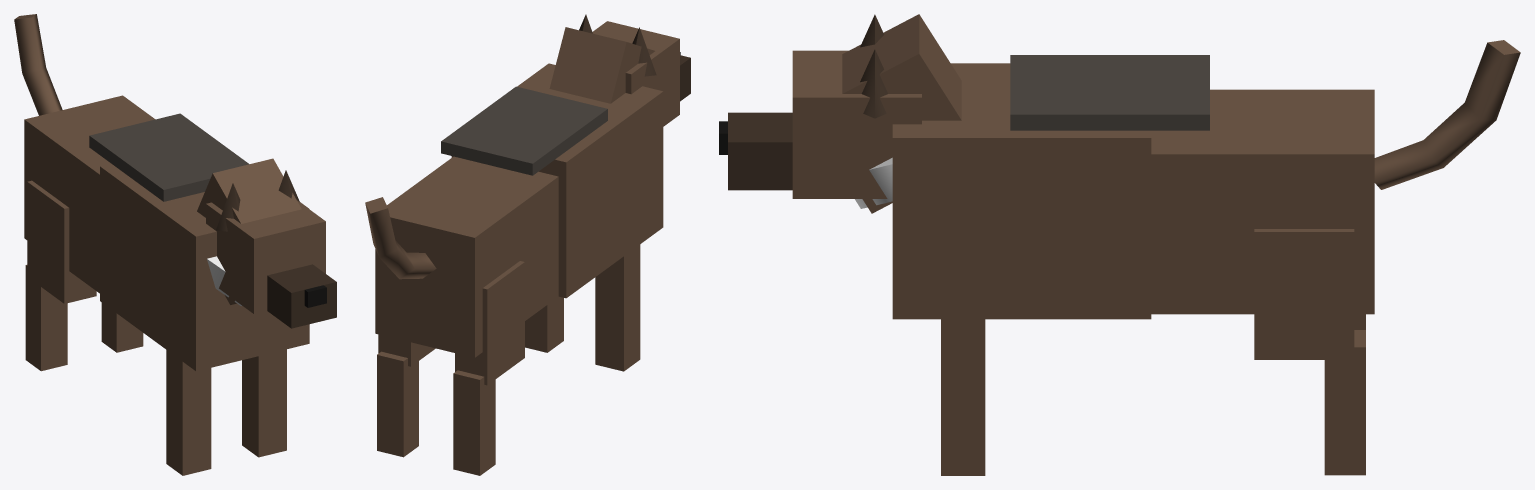
The picture shows the model from 3 angles, left to right: view 1: azimuth 30°, elevation 25°; view 2: azimuth 150°, elevation 25°; view 3: azimuth 270°, elevation 25°; orthographic projection. The views are drawn at different scales.
Parts seen in each view (by area): view 1: raider_body_hound; view 2: raider_body_hound; view 3: raider_body_hound.
Part boxes in pixels (<box>): raider_body_hound: <box>14,14,336,475</box>; raider_body_hound: <box>365,14,690,475</box>; raider_body_hound: <box>719,14,1520,475</box>.
Size of the model in its own units: 0.3 by 0.77 by 1.36.
